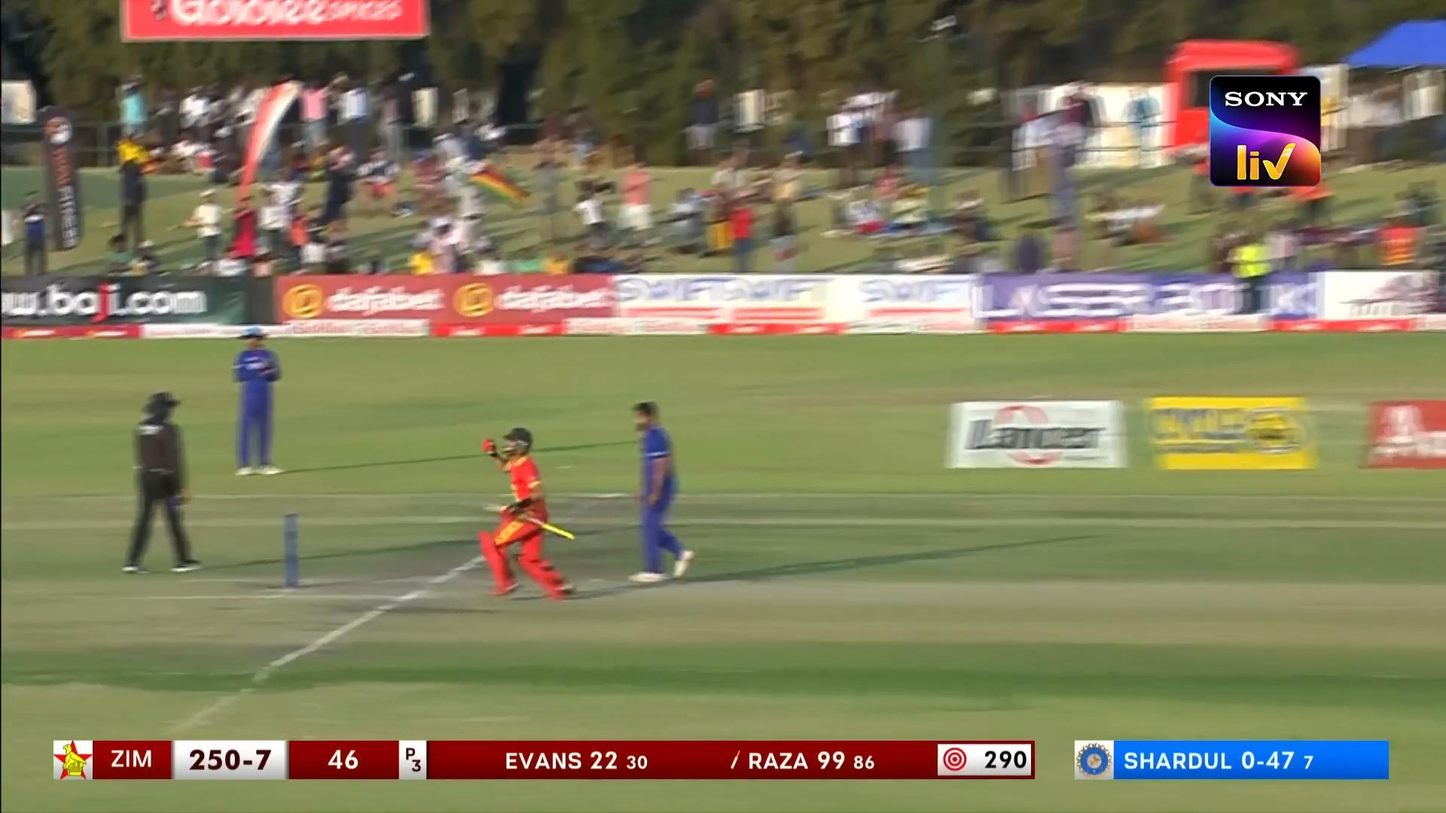batsman: (478, 426, 577, 601)
